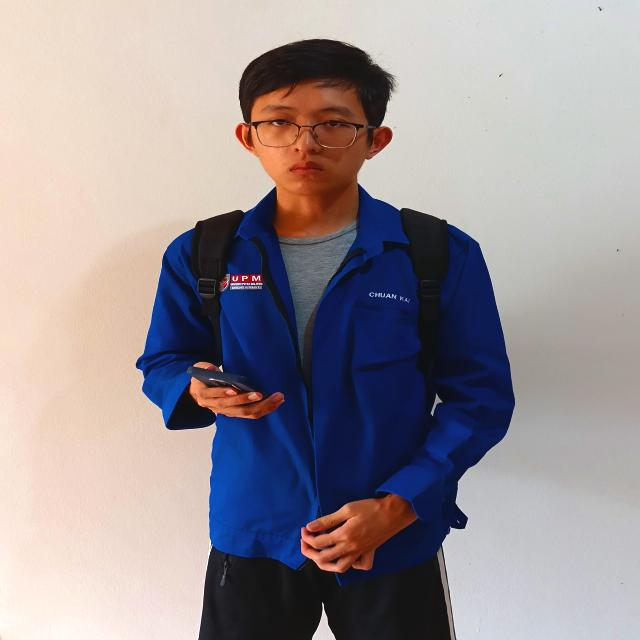person_with_labcoat: (136, 39, 514, 640)
